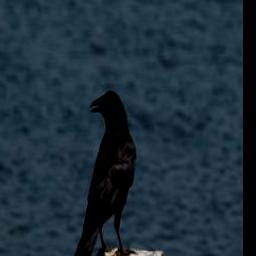Crow: (73, 90, 137, 256)
